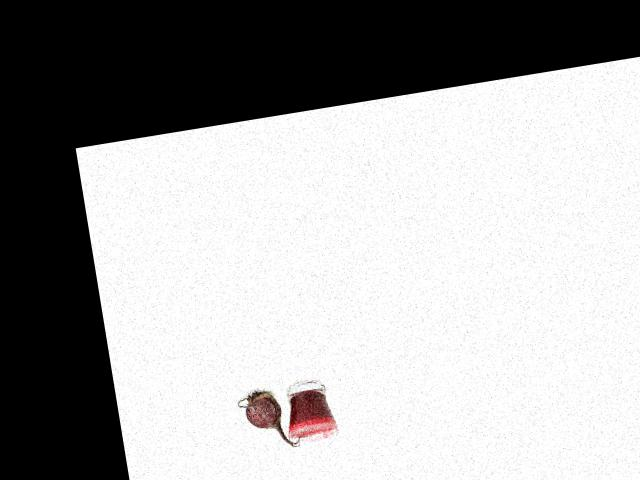beet: (236, 383, 308, 454)
